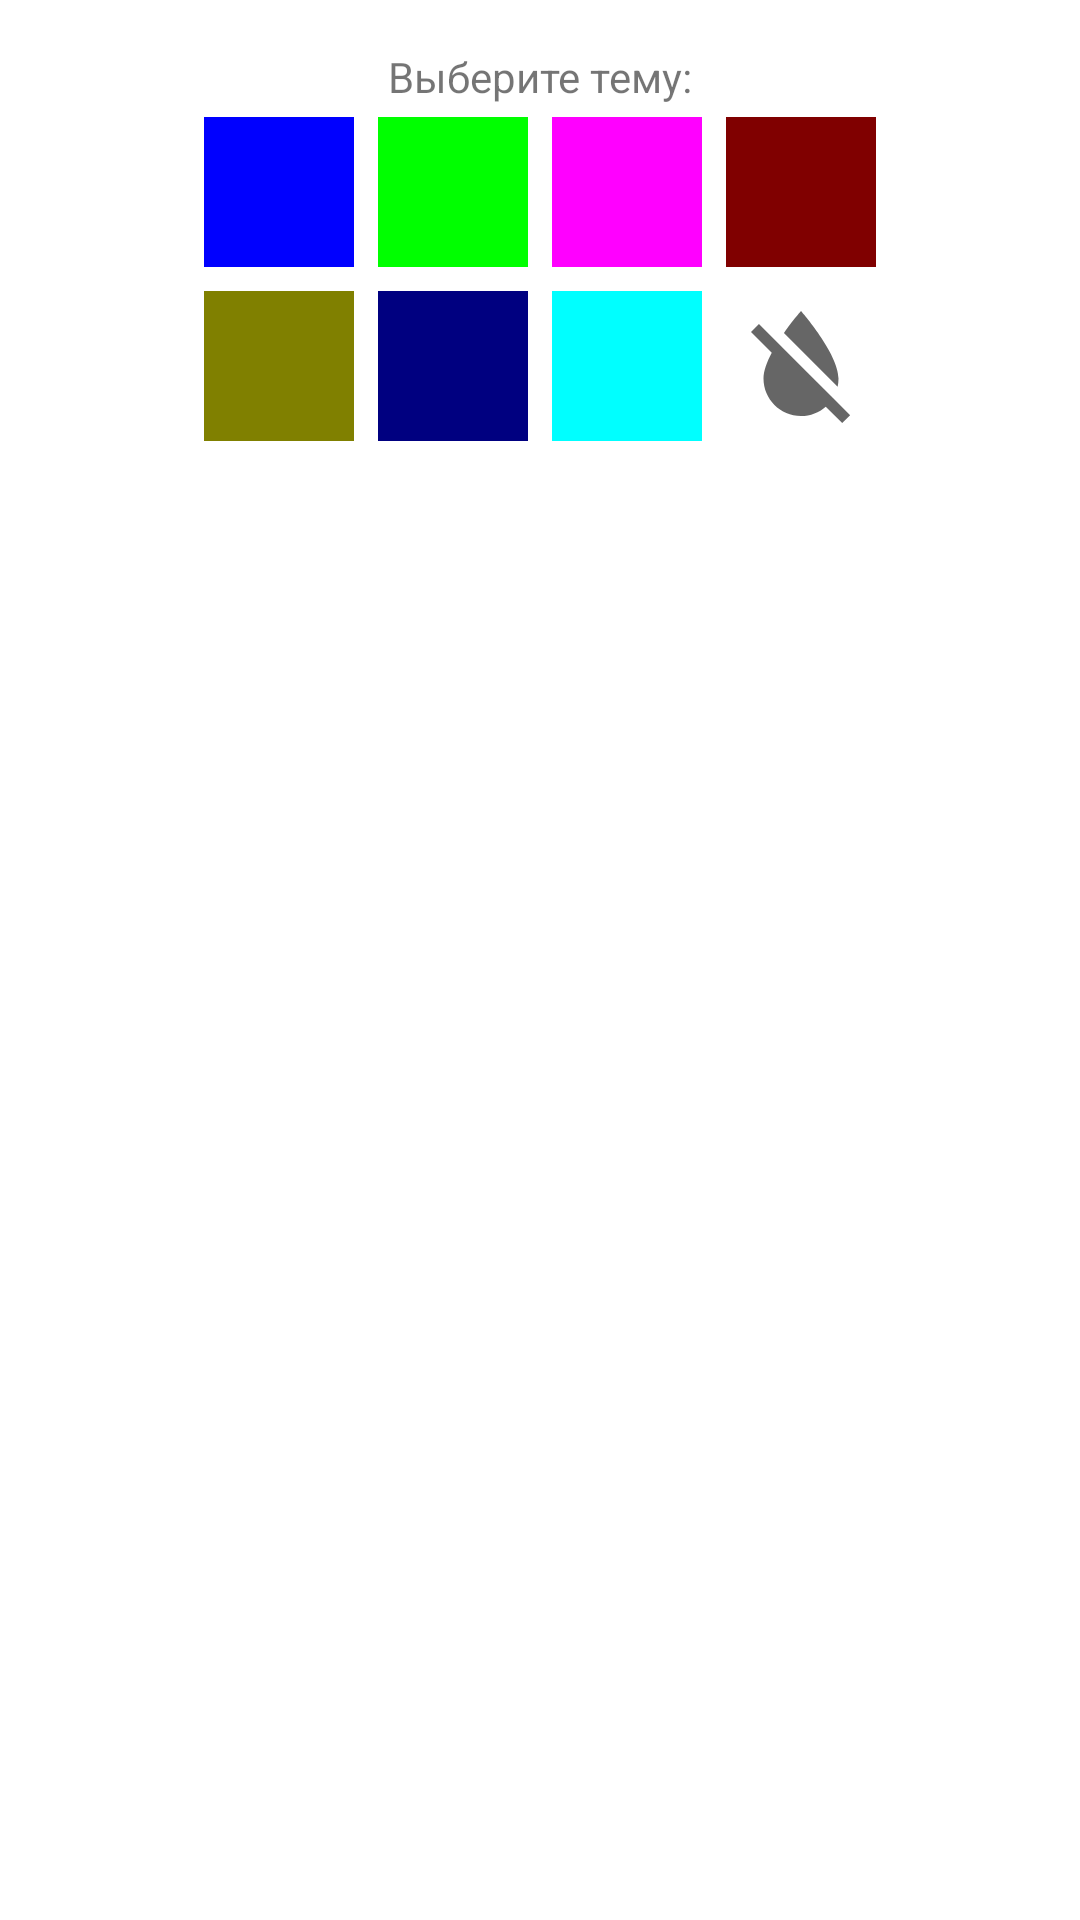

Icons on this 1080*1920 Android screen, each with its box as bbox=(x1, y1, x2, y2):
format reset: bbox=(751, 311, 850, 423)
